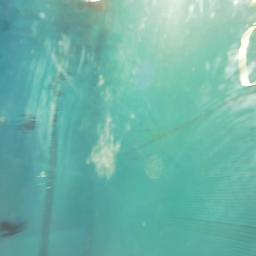Full: (0, 215, 25, 237)
